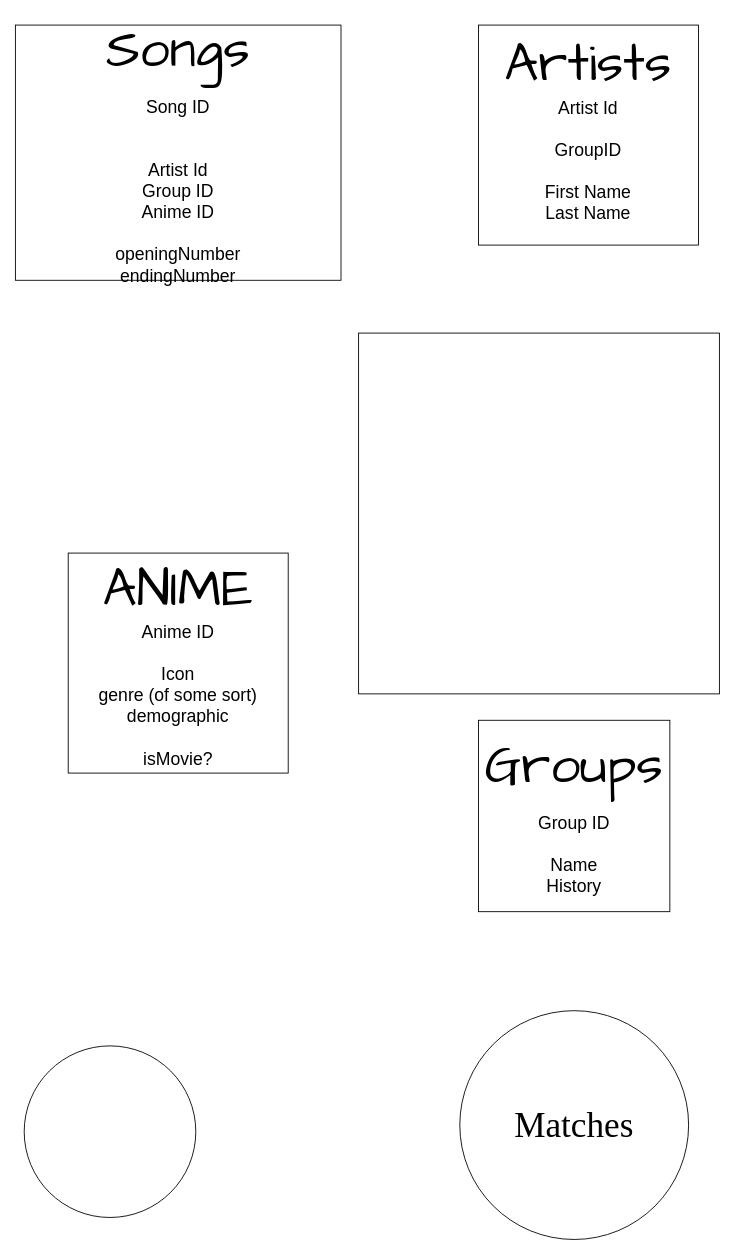
This 735x1255 diagram has some shape labels left out. Each missing label, with the centre of its shape:
"GroupMember Artist ID Group ID" belongs at [538,513].
"Player" belongs at [109,1131].
